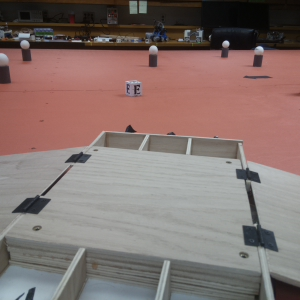obstacle: (1, 53, 14, 87), (147, 44, 161, 69), (251, 45, 264, 68), (19, 41, 32, 62), (221, 40, 228, 59)
side: (1, 234, 276, 298), (90, 124, 249, 158)
slope: (1, 147, 88, 233), (248, 160, 300, 287)
